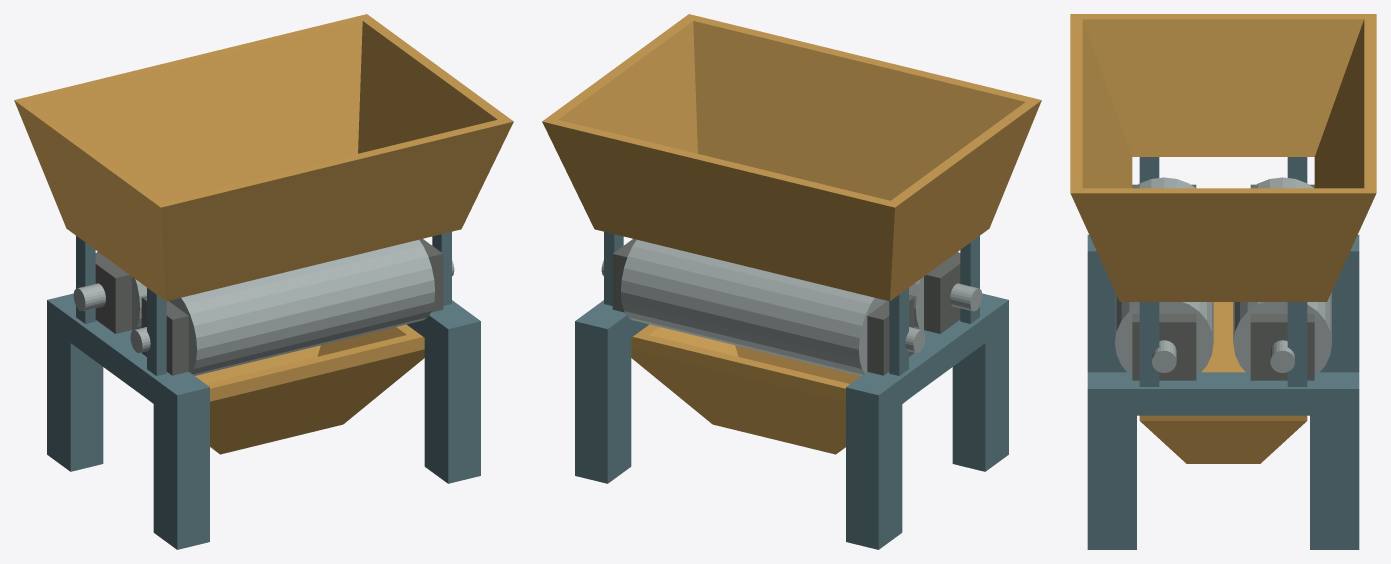
The picture shows the model from 3 angles, left to right: view 1: azimuth 30°, elevation 25°; view 2: azimuth 150°, elevation 25°; view 3: azimuth 270°, elevation 25°; orthographic projection. The views are drawn at different scales.
Parts seen in each view (by area): view 1: WholeOpenFlaredFeedHopper, LeftWholeGroundEndFrame, FrontWholeRollWithIntegralJournals, WholeOpenLowerDischargeFunnel, RightWholeGroundEndFrame, LeftRearWholeBoredBearing, LeftFrontWholeBoredBearing, LeftFrontWholeFeedHopperStanchion, RearWholeRollWithIntegralJournals, LeftRearWholeFeedHopperStanchion, RightFrontWholeFeedHopperStanchion, RightFrontWholeBoredBearing; view 2: WholeOpenFlaredFeedHopper, LeftWholeGroundEndFrame, RearWholeRollWithIntegralJournals, WholeOpenLowerDischargeFunnel, RightWholeGroundEndFrame, LeftFrontWholeBoredBearing, LeftRearWholeBoredBearing, LeftRearWholeFeedHopperStanchion, FrontWholeRollWithIntegralJournals, LeftFrontWholeFeedHopperStanchion, RightRearWholeFeedHopperStanchion, RightRearWholeBoredBearing; view 3: WholeOpenFlaredFeedHopper, RightWholeGroundEndFrame, WholeOpenLowerDischargeFunnel, LeftWholeGroundEndFrame, FrontWholeRollWithIntegralJournals, RearWholeRollWithIntegralJournals, RightFrontWholeBoredBearing, RightRearWholeBoredBearing, RightFrontWholeFeedHopperStanchion, RightRearWholeFeedHopperStanchion, LeftFrontWholeFeedHopperStanchion, LeftRearWholeFeedHopperStanchion.
Boxes of the visible parts, box(x1,y1,x2,y2) form: WholeOpenFlaredFeedHopper: box(14, 14, 513, 301); LeftWholeGroundEndFrame: box(47, 293, 209, 549); FrontWholeRollWithIntegralJournals: box(130, 240, 454, 375); WholeOpenLowerDischargeFunnel: box(151, 324, 424, 454); RightWholeGroundEndFrame: box(407, 300, 480, 483); LeftRearWholeBoredBearing: box(95, 252, 131, 333); LeftFrontWholeBoredBearing: box(141, 296, 188, 375); LeftFrontWholeFeedHopperStanchion: box(147, 288, 166, 375); RearWholeRollWithIntegralJournals: box(73, 252, 146, 330); LeftRearWholeFeedHopperStanchion: box(76, 236, 95, 323); RightFrontWholeFeedHopperStanchion: box(432, 231, 451, 305); RightFrontWholeBoredBearing: box(419, 239, 443, 312); WholeOpenFlaredFeedHopper: box(542, 14, 1041, 301); LeftWholeGroundEndFrame: box(846, 293, 1008, 549); RearWholeRollWithIntegralJournals: box(601, 240, 925, 375); WholeOpenLowerDischargeFunnel: box(631, 324, 904, 454); RightWholeGroundEndFrame: box(575, 300, 648, 483); LeftFrontWholeBoredBearing: box(924, 252, 960, 333); LeftRearWholeBoredBearing: box(867, 296, 914, 375); LeftRearWholeFeedHopperStanchion: box(889, 288, 908, 375); FrontWholeRollWithIntegralJournals: box(909, 252, 982, 330); LeftFrontWholeFeedHopperStanchion: box(960, 236, 979, 323); RightRearWholeFeedHopperStanchion: box(604, 231, 623, 305); RightRearWholeBoredBearing: box(612, 239, 636, 312); WholeOpenFlaredFeedHopper: box(1070, 14, 1376, 301); RightWholeGroundEndFrame: box(1087, 372, 1359, 549); WholeOpenLowerDischargeFunnel: box(1139, 302, 1307, 463); LeftWholeGroundEndFrame: box(1087, 234, 1359, 372); FrontWholeRollWithIntegralJournals: box(1115, 177, 1213, 372); RearWholeRollWithIntegralJournals: box(1233, 177, 1331, 372); RightFrontWholeBoredBearing: box(1132, 314, 1196, 380); RightRearWholeBoredBearing: box(1250, 314, 1314, 380); RightFrontWholeFeedHopperStanchion: box(1139, 302, 1159, 386); RightRearWholeFeedHopperStanchion: box(1287, 302, 1307, 386); LeftFrontWholeFeedHopperStanchion: box(1139, 157, 1159, 182); LeftRearWholeFeedHopperStanchion: box(1287, 157, 1307, 182).
Size of the model in its own units: 1.72 by 1.65 by 1.24.
